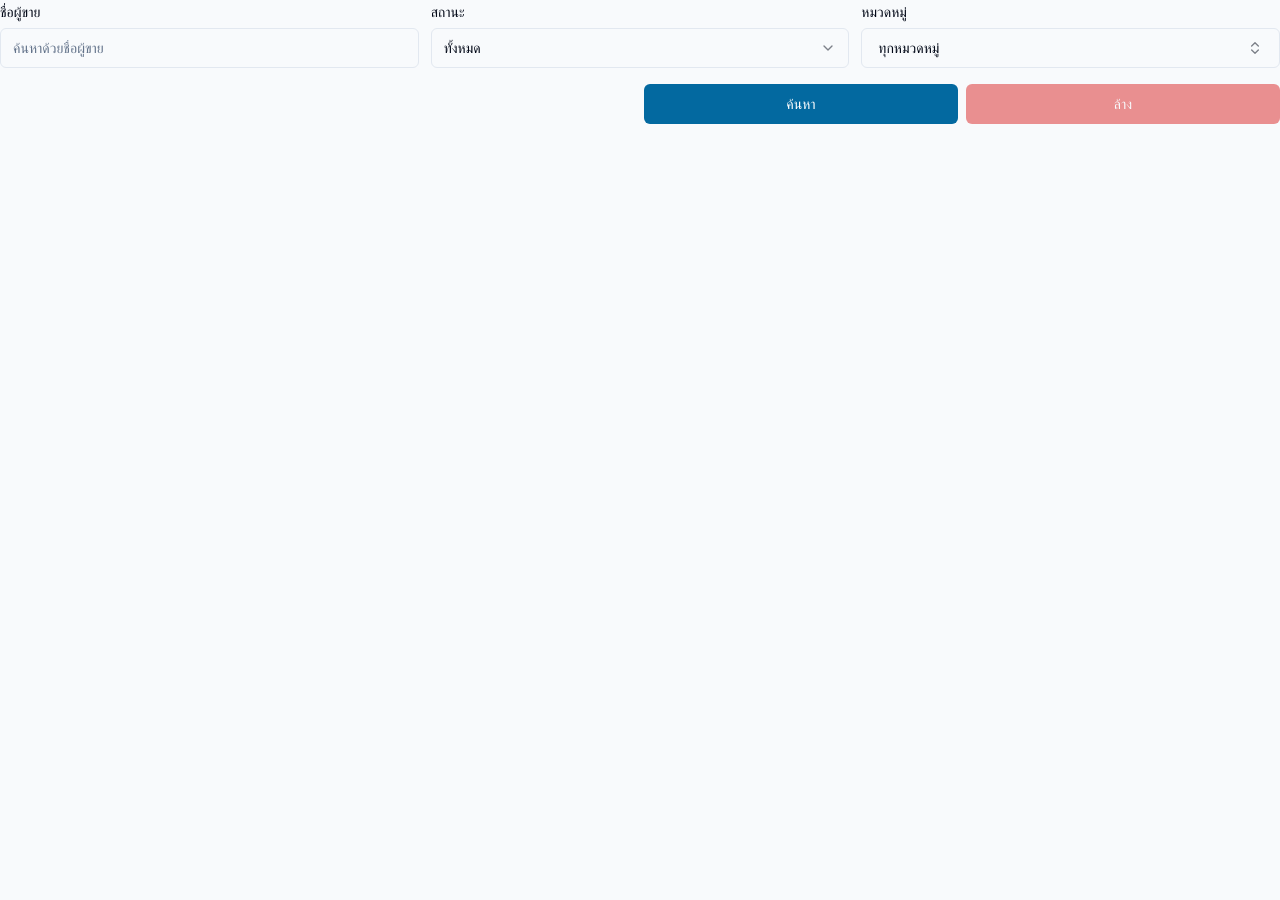
it: VendorListFilterForm › renders category options from the categories prop
Click the dropdown labelled "หมวดหมู่" at (909, 48), box [861,28,1279,68]
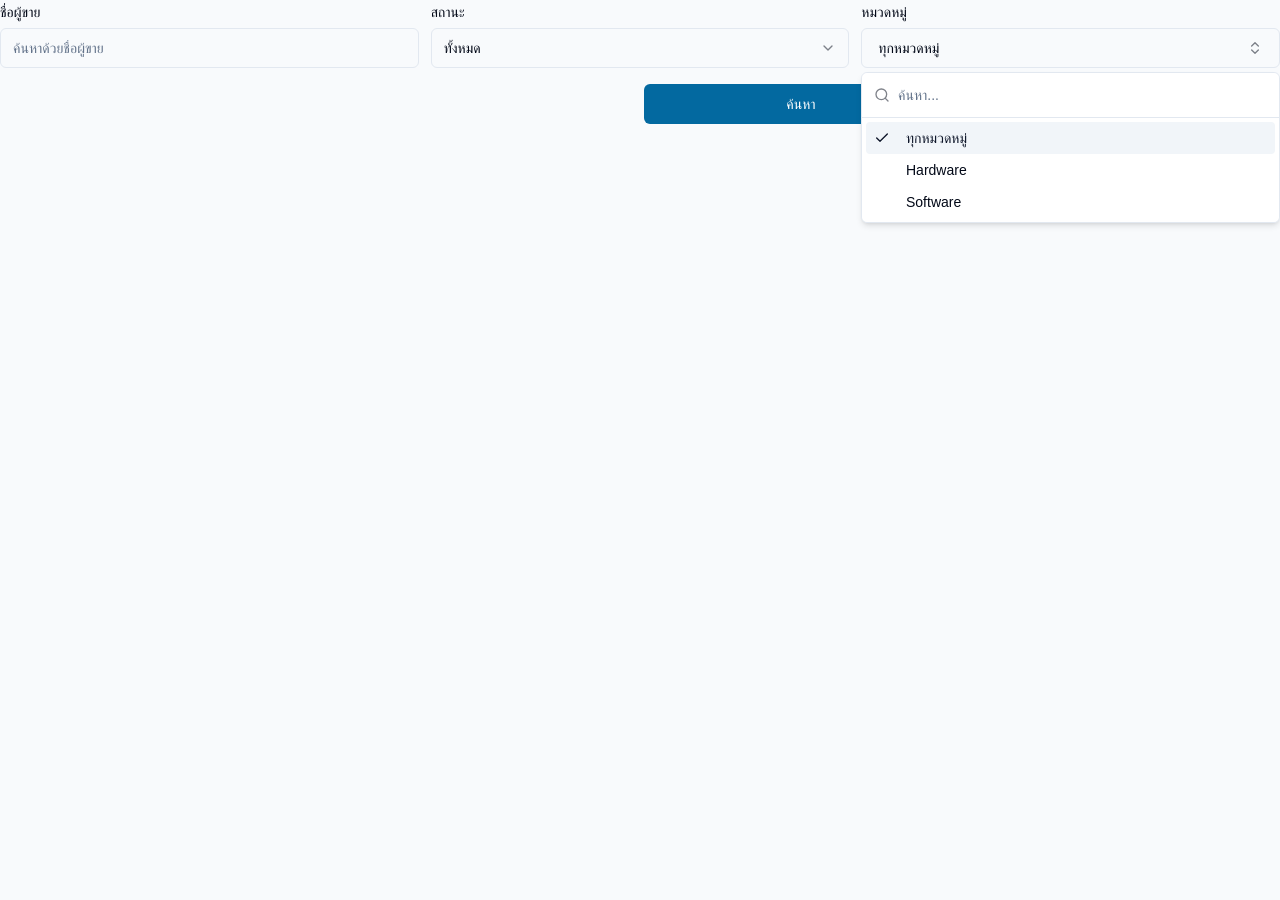
expect the option "Hardware" is shown: met, box [906,162,967,178]
expect the option "Software" is shown: met, box [906,194,961,210]
